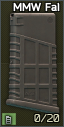SA-58%5FAL 7.62x51 "MMW" plastic 20-round magazine: (0, 0, 64, 127)
